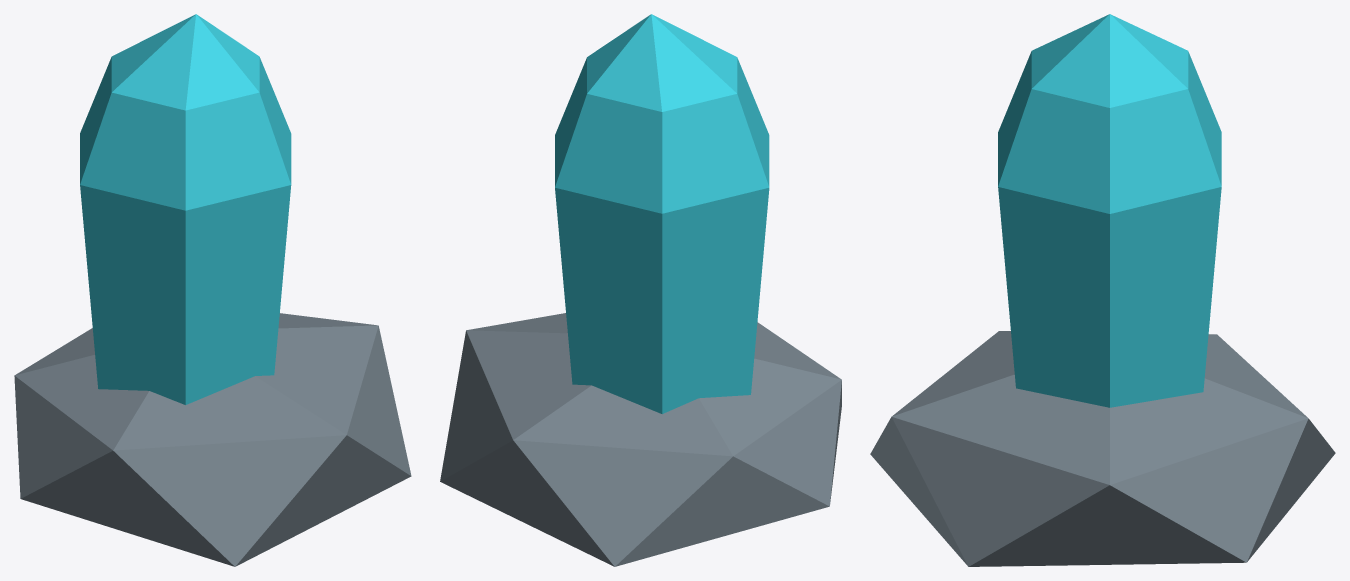
File: OreNode.fbx
3 renders of one model, left to right at view 1: azimuth 30°, elevation 25°; view 2: azimuth 150°, elevation 25°; view 3: azimuth 270°, elevation 25°, orthographic. The views are drawn at different scales.
Parts seen in each view (by area): view 1: Core, Shell; view 2: Core, Shell; view 3: Core, Shell.
Boxes of the visible parts, x1=… form: Core: x1=80, y1=14, x2=291, y2=404; Shell: x1=14, y1=313, x2=411, y2=566; Core: x1=555, y1=14, x2=769, y2=413; Shell: x1=440, y1=313, x2=841, y2=566; Core: x1=998, y1=14, x2=1221, y2=407; Shell: x1=870, y1=331, x2=1335, y2=566.
Size of the model in its own units: 105 by 140 by 112.
